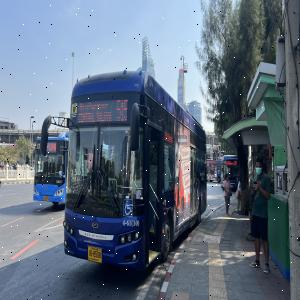Bus Line Number: (115, 96, 130, 125)
Bus Side Number: (122, 219, 141, 228)
Destination Sign: (76, 100, 112, 124)
TSB-Bus: (63, 70, 207, 273)
